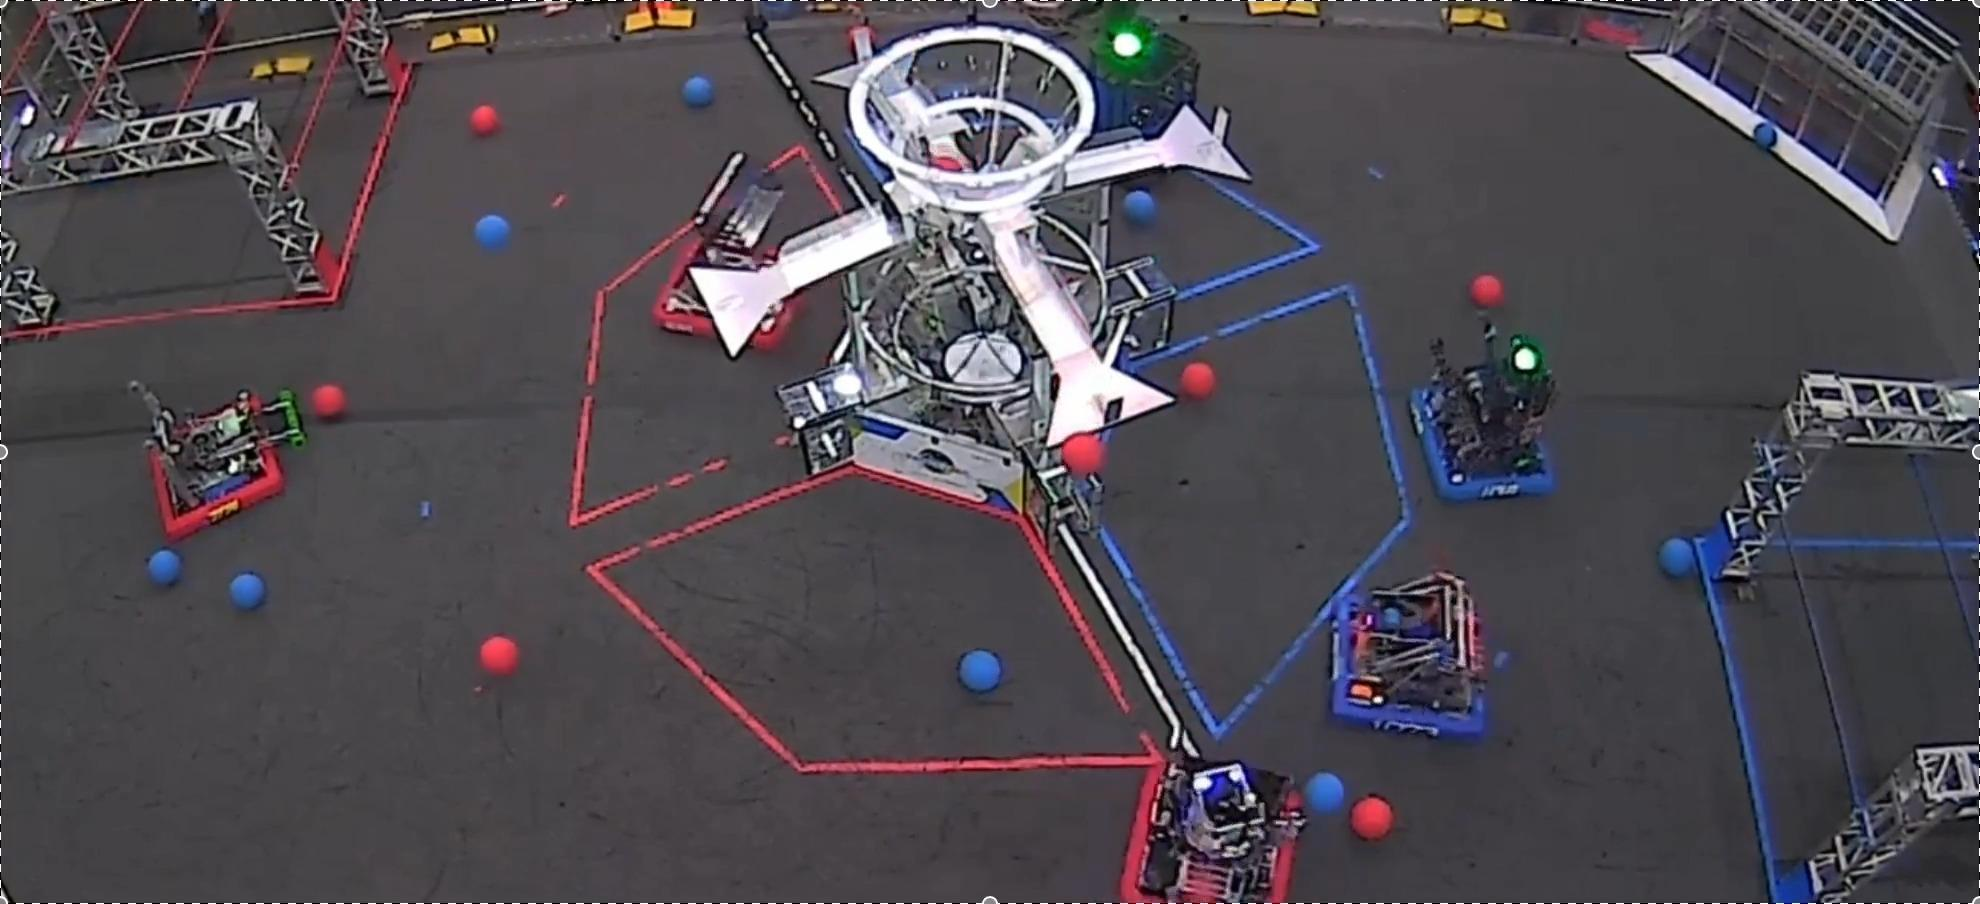Robots: (129, 381, 306, 540), (1412, 316, 1556, 499), (1332, 571, 1485, 737), (1136, 755, 1304, 901), (653, 153, 784, 337), (1080, 6, 1202, 194)
